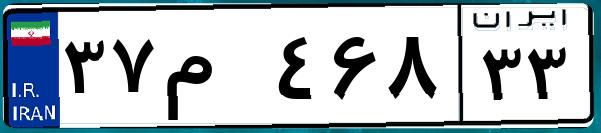3: (57, 26, 110, 100), (475, 38, 525, 113), (525, 38, 570, 115)
4: (270, 28, 330, 110)
6: (330, 28, 385, 110)
7: (110, 28, 158, 98)
8: (385, 28, 445, 110)
م: (158, 20, 270, 120)
